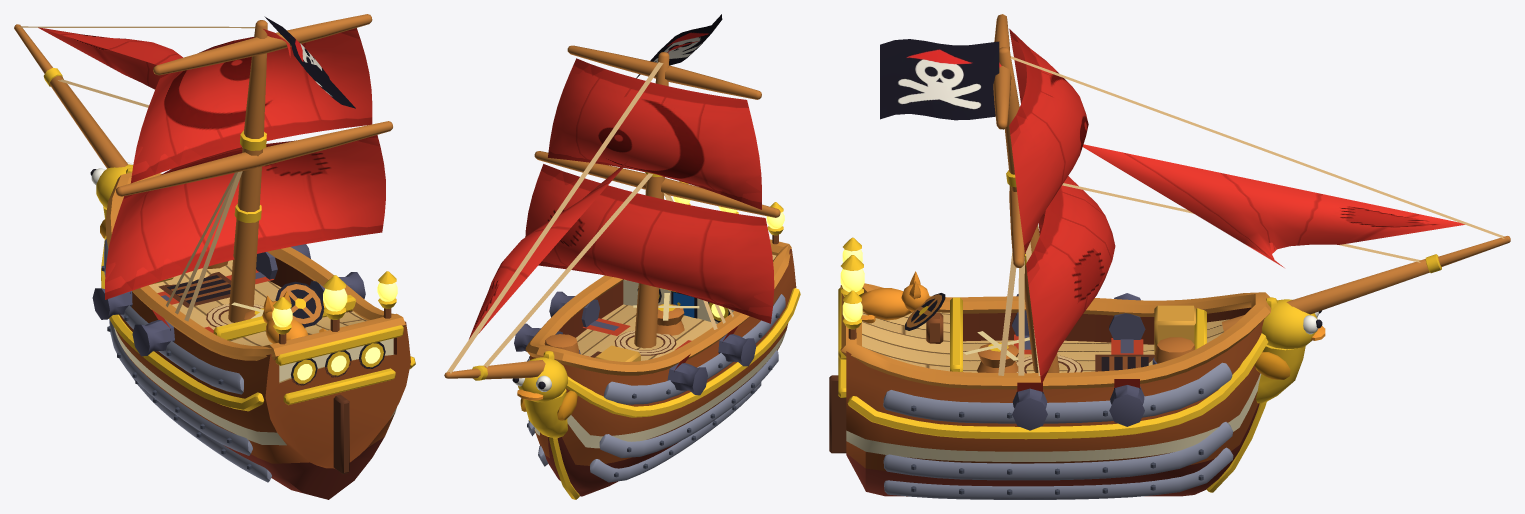
File: player_sloop.glb
3 renders of one model, left to right at view 1: azimuth 30°, elevation 25°; view 2: azimuth 150°, elevation 25°; view 3: azimuth 270°, elevation 25°, orthographic. The views are drawn at different scales.
Parts seen in each view (by area): view 1: Hull, Sail0_0, Sail0_1, Rigging, Plating3, Jib, Guns3, Plating2, Flag, Plating1; view 2: Hull, Sail0_0, Sail0_1, Rigging, Plating3, Jib, Guns3, Plating2, Plating1, Flag, Guns2; view 3: Hull, Jib, Rigging, Plating3, Sail0_0, Sail0_1, Flag, Plating2, Guns3, Plating1.
Boxes of the visible parts, left/top/right/bottom form: Hull: left=90, top=162, right=415, bottom=499; Sail0_0: left=105, top=135, right=385, bottom=299; Sail0_1: left=130, top=28, right=372, bottom=183; Rigging: left=14, top=14, right=392, bottom=322; Plating3: left=101, top=239, right=271, bottom=481; Jib: left=38, top=27, right=182, bottom=89; Guns3: left=92, top=244, right=365, bottom=356; Plating2: left=107, top=320, right=270, bottom=482; Flag: left=264, top=16, right=355, bottom=108; Plating1: left=107, top=319, right=251, bottom=455; Hull: left=512, top=181, right=800, bottom=499; Sail0_0: left=525, top=164, right=774, bottom=323; Sail0_1: left=548, top=58, right=761, bottom=209; Rigging: left=444, top=40, right=780, bottom=380; Plating3: left=527, top=294, right=785, bottom=482; Jib: left=469, top=159, right=630, bottom=338; Guns3: left=514, top=291, right=756, bottom=395; Plating2: left=527, top=365, right=772, bottom=482; Plating1: left=528, top=350, right=778, bottom=457; Flag: left=636, top=14, right=722, bottom=78; Guns2: left=583, top=302, right=691, bottom=349; Hull: left=829, top=237, right=1325, bottom=496; Jib: left=1082, top=144, right=1464, bottom=267; Rigging: left=993, top=14, right=1510, bottom=375; Plating3: left=883, top=362, right=1232, bottom=499; Sail0_0: left=1026, top=176, right=1115, bottom=384; Sail0_1: left=1009, top=29, right=1088, bottom=253; Flag: left=880, top=39, right=999, bottom=120; Plating2: left=883, top=438, right=1233, bottom=499; Guns3: left=1011, top=293, right=1145, bottom=430; Plating1: left=884, top=422, right=1232, bottom=480.
Bounding box in the file's own units: 1.56 × 2.35 × 3.2.
9 materials, 4 textured.
